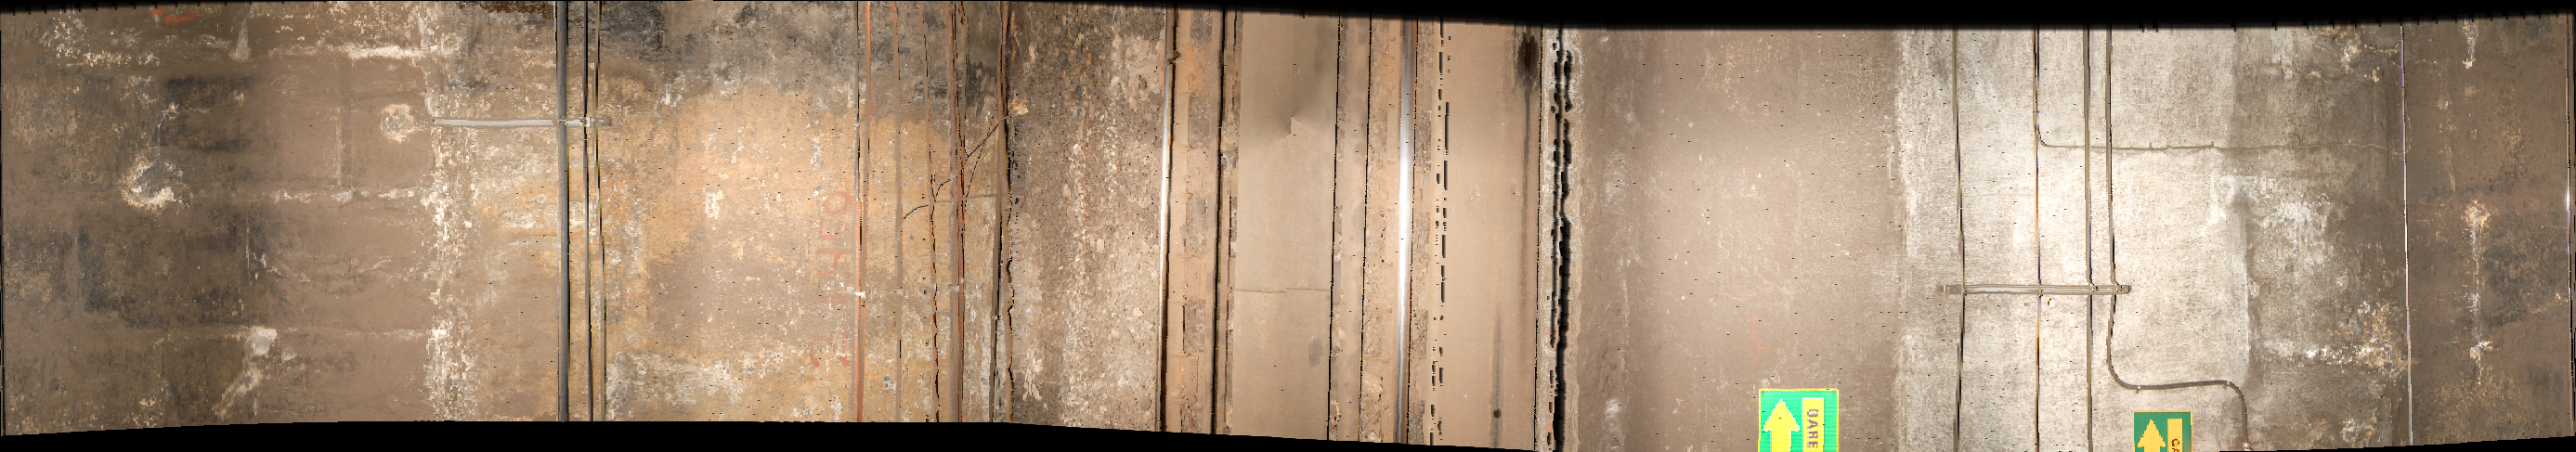pipes: (559, 2, 624, 432), (2394, 18, 2425, 452), (2024, 26, 2054, 452), (1947, 28, 1970, 452), (2077, 28, 2096, 452)
sign: (1759, 386, 1837, 452), (2137, 413, 2195, 452)
tracks: (1166, 2, 1580, 452)
